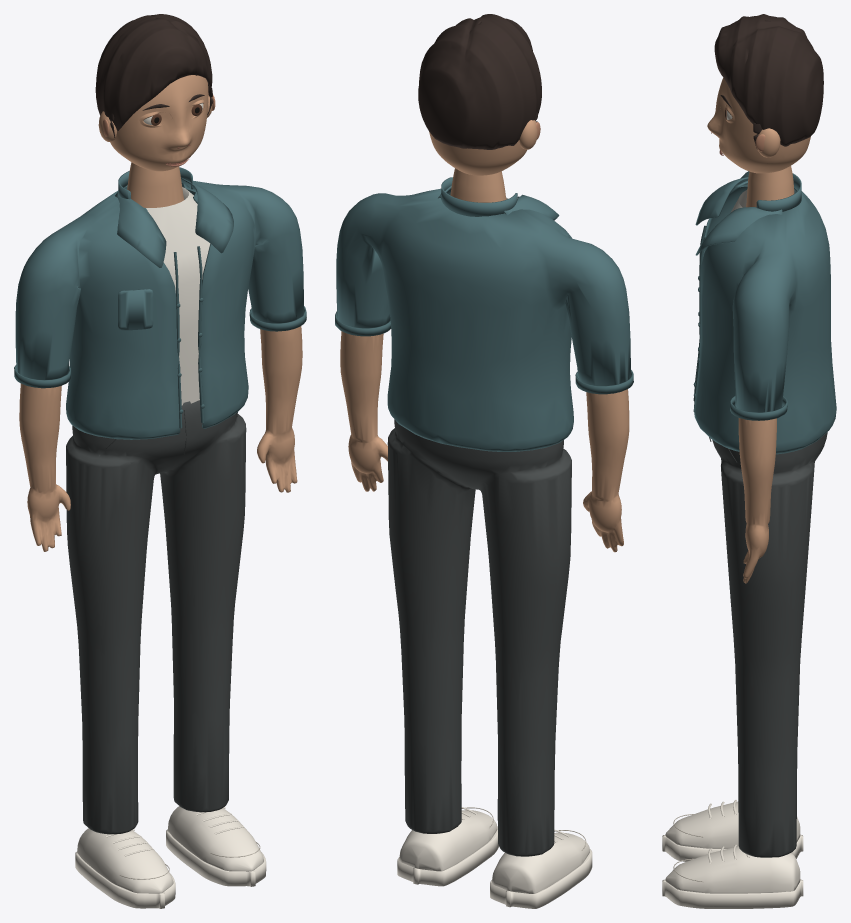
The model's file is male-static-v2.glb.
3 renders of one model, left to right at view 1: azimuth 30°, elevation 25°; view 2: azimuth 150°, elevation 25°; view 3: azimuth 270°, elevation 25°, orthographic. The views are drawn at different scales.
Parts seen in each view (by area): view 1: Male · continuous trousers [static], Male · continuous tailored overshirt [static], Male · continuous swept hair volume [static], Male · continuous face / nose / cheeks [static], Male · continuous forearm hand fingers [static], Male · inner tee [static], Male · continuous forearm hand fingers.001 [static], Male · shaped sneaker upper.001 [static], Male · shaped sneaker upper [static], Male · folded collar [static], Male · shaped neck [static], Male · folded collar.001 [static] (+4 smaller); view 2: Male · continuous tailored overshirt [static], Male · continuous trousers [static], Male · continuous swept hair volume [static], Male · continuous forearm hand fingers [static], Male · continuous forearm hand fingers.001 [static], Male · shaped sneaker upper [static], Male · shaped sneaker upper.001 [static], Male · continuous face / nose / cheeks [static], Male · rubber outsole [static], Male · rubber outsole.001 [static], Male · shaped neck [static], Male · back collar band [static]; view 3: Male · continuous tailored overshirt [static], Male · continuous trousers [static], Male · continuous swept hair volume [static], Male · shaped sneaker upper.001 [static], Male · continuous forearm hand fingers.001 [static], Male · continuous face / nose / cheeks [static], Male · shaped sneaker upper [static], Male · rubber outsole.001 [static], Male · shaped neck [static], Male · folded collar.001 [static], Male · folded collar [static], Male · rubber outsole [static] (+3 smaller).
Part boxes in pixels (box(x1,y1,x2,y2)): Male · continuous trousers [static]: box(66, 400, 246, 834); Male · continuous tailored overshirt [static]: box(15, 180, 303, 439); Male · continuous swept hair volume [static]: box(95, 14, 212, 130); Male · continuous face / nose / cheeks [static]: box(110, 75, 208, 171); Male · continuous forearm hand fingers [static]: box(19, 383, 70, 551); Male · inner tee [static]: box(146, 187, 210, 405); Male · continuous forearm hand fingers.001 [static]: box(257, 326, 302, 492); Male · shaped sneaker upper.001 [static]: box(167, 806, 263, 871); Male · shaped sneaker upper [static]: box(77, 828, 173, 893); Male · folded collar [static]: box(115, 192, 166, 268); Male · shaped neck [static]: box(127, 162, 184, 207); Male · folded collar.001 [static]: box(181, 177, 233, 253); Male · continuous tailored overshirt [static]: box(336, 188, 630, 451); Male · continuous trousers [static]: box(387, 419, 571, 856); Male · continuous swept hair volume [static]: box(418, 14, 541, 149); Male · continuous forearm hand fingers [static]: box(583, 389, 629, 552); Male · continuous forearm hand fingers.001 [static]: box(340, 331, 387, 491); Male · shaped sneaker upper [static]: box(492, 832, 589, 893); Male · shaped sneaker upper.001 [static]: box(399, 810, 497, 871); Male · continuous face / nose / cheeks [static]: box(429, 131, 526, 175); Male · rubber outsole [static]: box(490, 849, 592, 908); Male · rubber outsole.001 [static]: box(397, 826, 498, 886); Male · shaped neck [static]: box(450, 168, 506, 202); Male · back collar band [static]: box(441, 177, 517, 216); Male · continuous tailored overshirt [static]: box(694, 171, 836, 454); Male · continuous trousers [static]: box(712, 432, 827, 857); Male · continuous swept hair volume [static]: box(714, 14, 823, 146); Male · shaped sneaker upper.001 [static]: box(665, 846, 800, 893); Male · continuous forearm hand fingers.001 [static]: box(738, 418, 776, 583); Male · continuous face / nose / cheeks [static]: box(707, 77, 810, 173); Male · shaped sneaker upper [static]: box(665, 801, 800, 848); Male · rubber outsole.001 [static]: box(662, 879, 803, 908); Male · shaped neck [static]: box(746, 166, 794, 207); Male · folded collar.001 [static]: box(695, 207, 782, 255); Male · folded collar [static]: box(695, 177, 748, 225); Male · rubber outsole [static]: box(662, 834, 803, 861).
Bounding box in the file's own units: 0.6412 × 1.81 × 0.3356.
